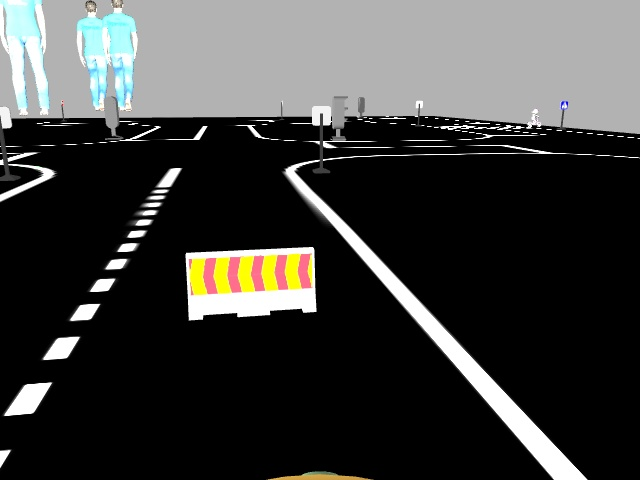ClosedRoadStand: (185, 251, 314, 309)
